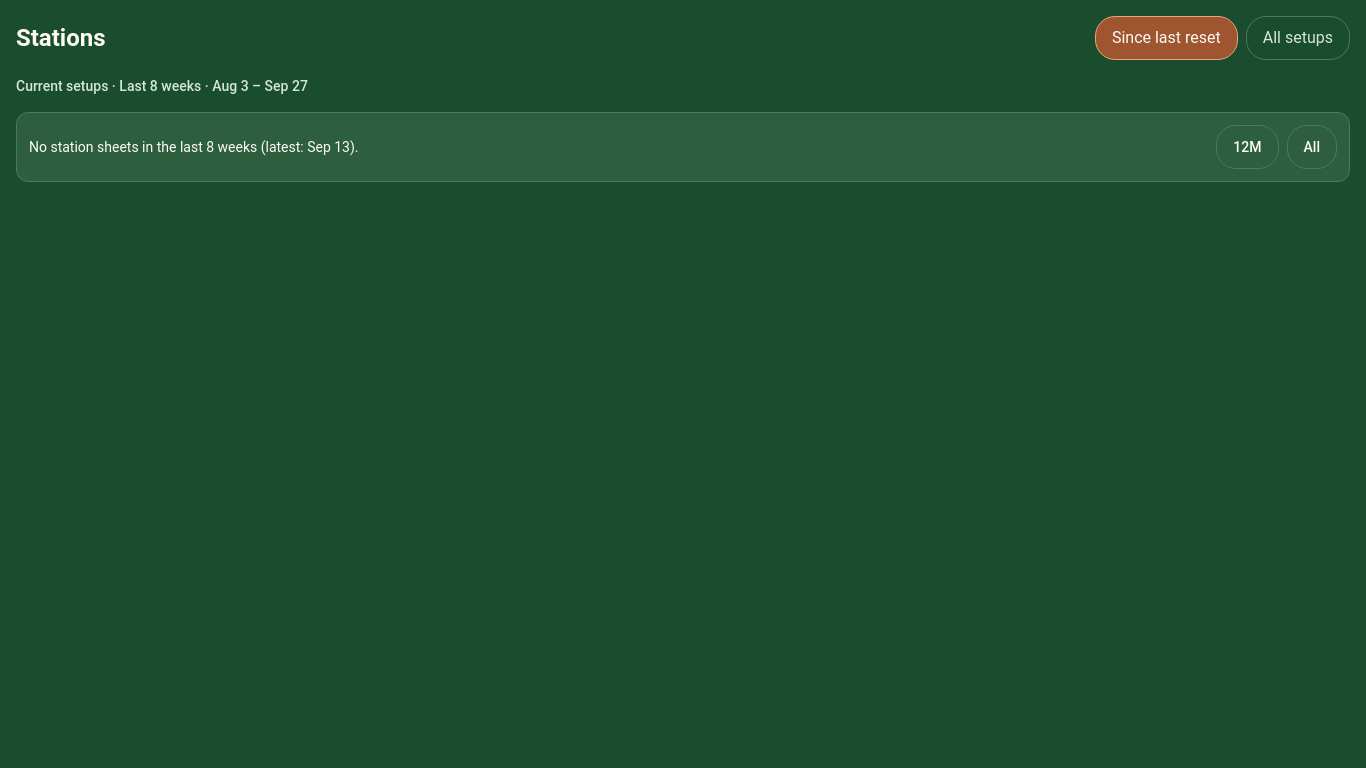
it: StationsPage › the header time window › says no sheets fall in the window, names the latest, and offers 12M and All
The image size is (1366, 768).
expect the text "No station sheets in the last 8 weeks" shows "No station sheets in the last 8 weeks (latest: Sep 13).": met, box [29,139,359,155]
Click the button named "Show the last 12 months" at (1247, 147), box [1216,125,1278,169]
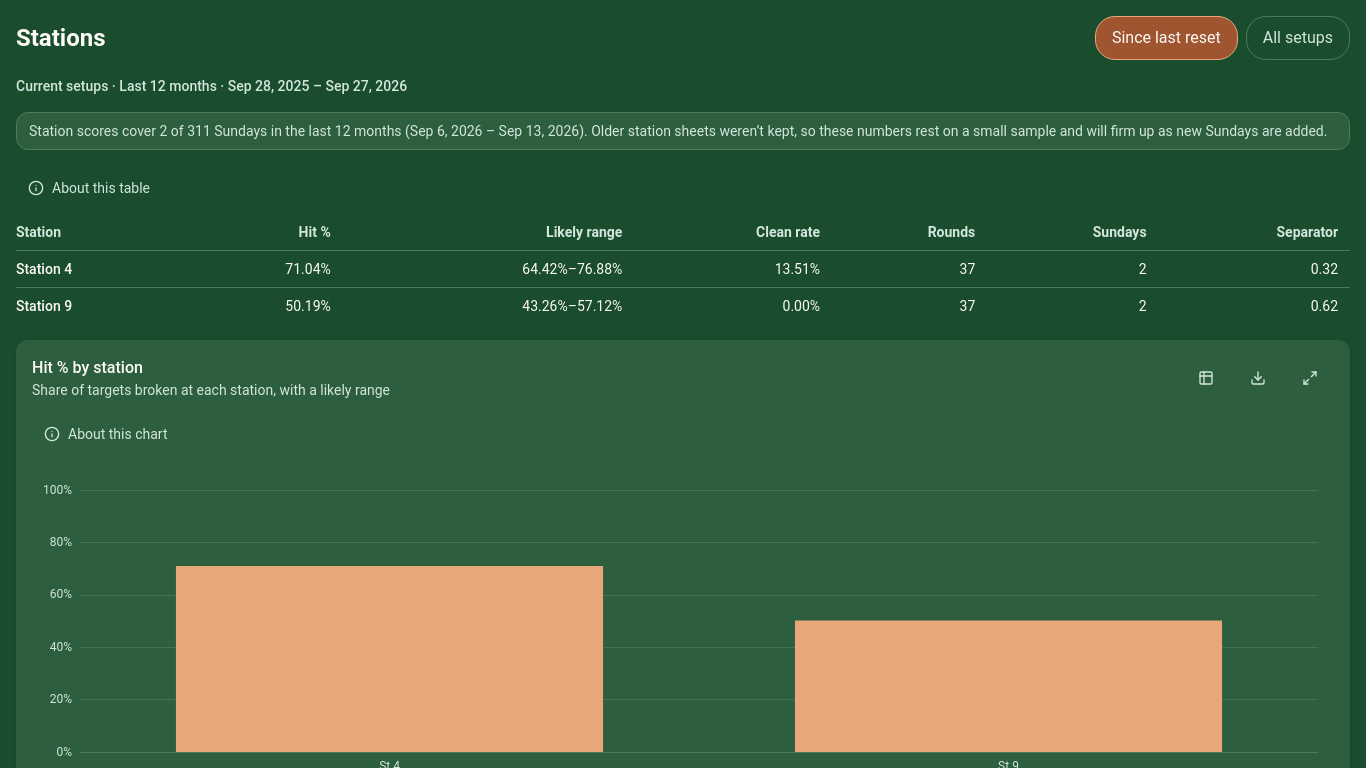
expect the row "Station 9 50.19% 43.26%–57.12% 0.00% 37 2 0.62" is shown: met, box [16,288,1350,324]
expect the text "No station sheets in the last 8 weeks" is gone: met
